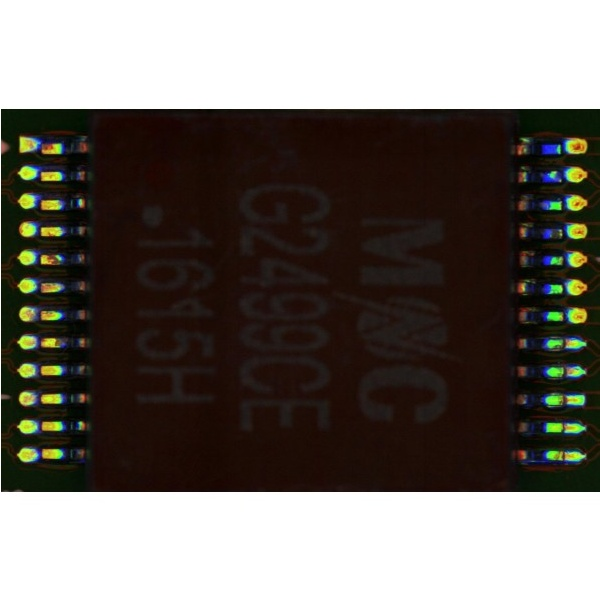Bad_podu: (553, 423, 575, 431), (554, 396, 577, 403), (555, 339, 573, 347), (553, 452, 573, 458), (554, 368, 573, 374)
